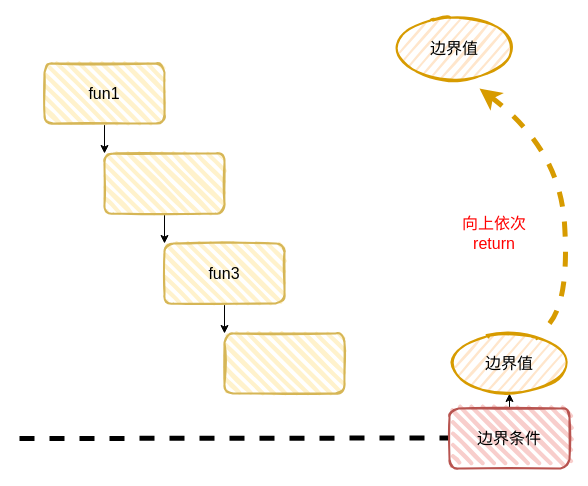
This 588x486 diagram has some shape labels left out. The box of each missing label's shape, as (x1, y1, x2, y2) in pixels:
fun2: (103, 152, 225, 214)
fun4: (223, 332, 345, 394)
